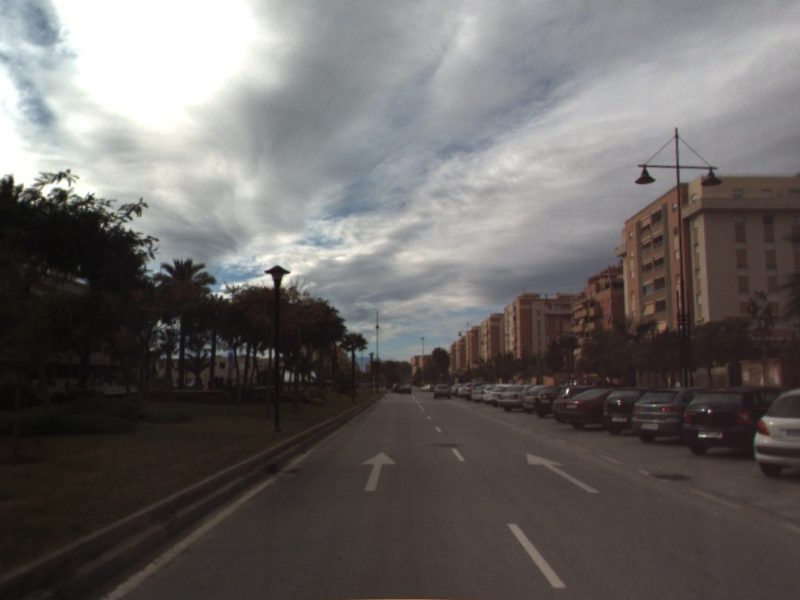STRAIGHT: (525, 451, 602, 494), (359, 450, 399, 493)
